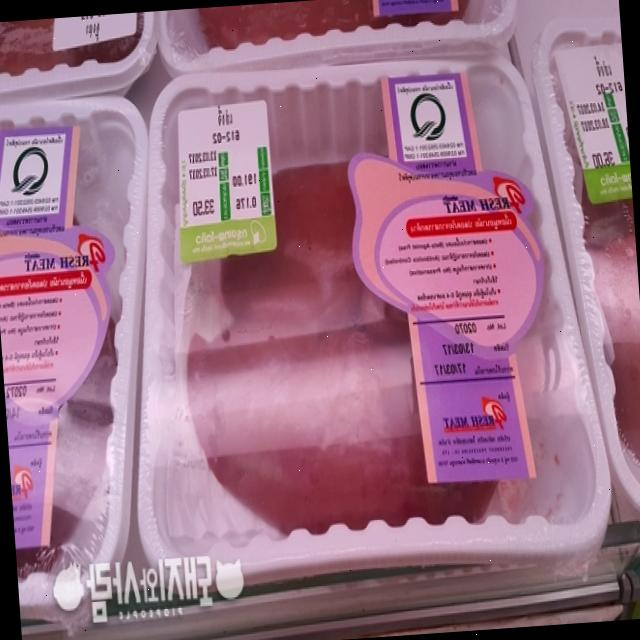meat: (138, 64, 570, 576)
